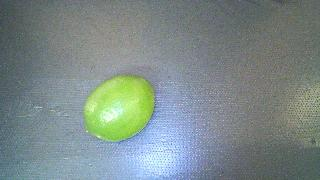EXPORTACION: (84, 75, 155, 142)
